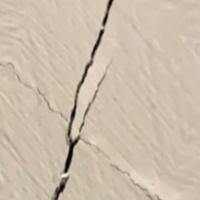crack: (44, 3, 129, 199)
